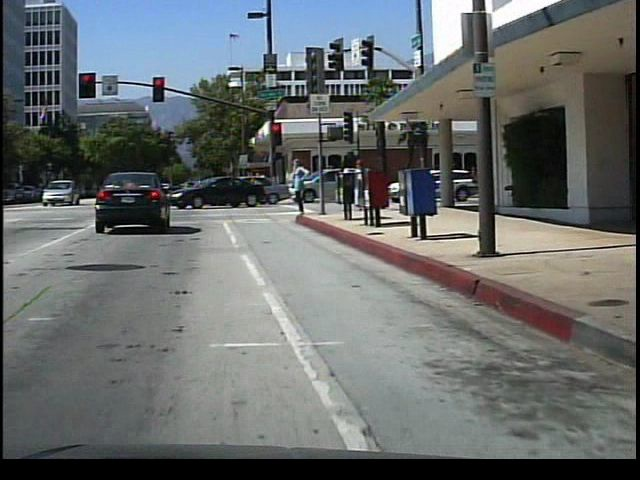person: (290, 152, 316, 218), (339, 154, 359, 211), (354, 154, 372, 211)
